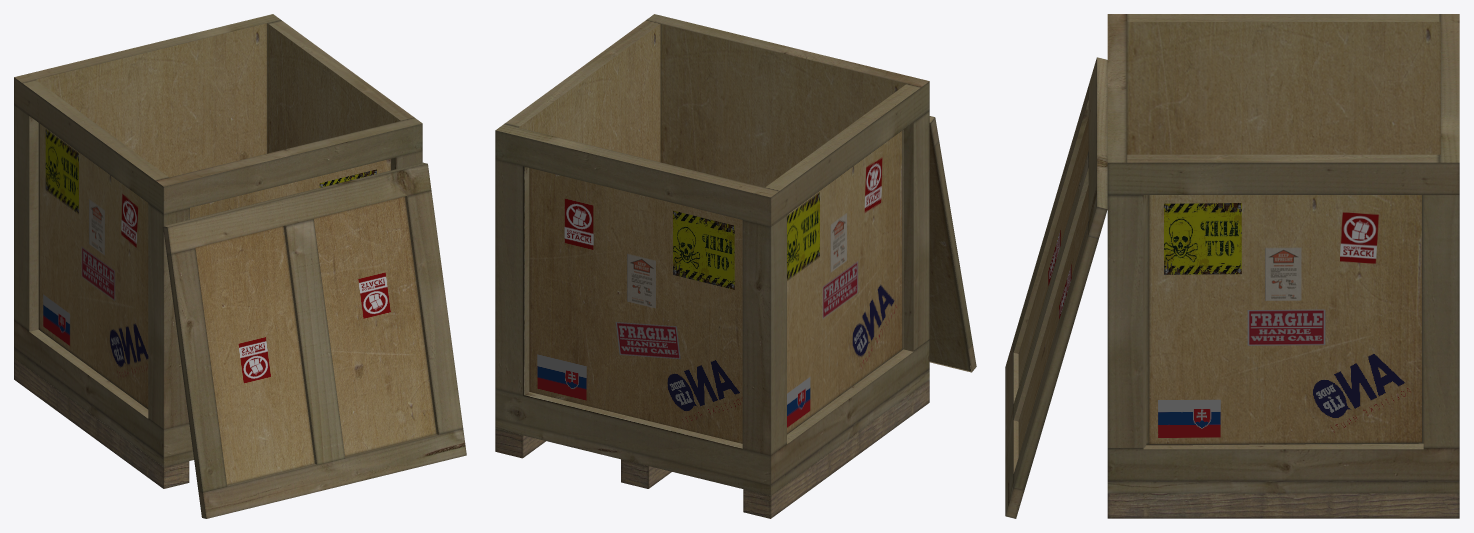
Rendered from crate.glb.
3 renders of one model, left to right at view 1: azimuth 30°, elevation 25°; view 2: azimuth 150°, elevation 25°; view 3: azimuth 270°, elevation 25°, orthographic. The views are drawn at different scales.
Parts seen in each view (by area): view 1: woodcrate01_skid_open, woodcrate01_cover; view 2: woodcrate01_skid_open, woodcrate01_cover; view 3: woodcrate01_skid_open, woodcrate01_cover.
Boxes of the visible parts, x1,y1,x2,y2 form: woodcrate01_skid_open: (14, 14, 422, 488); woodcrate01_cover: (163, 162, 466, 518); woodcrate01_skid_open: (495, 14, 929, 518); woodcrate01_cover: (929, 116, 976, 372); woodcrate01_skid_open: (1107, 14, 1459, 518); woodcrate01_cover: (1005, 57, 1107, 518).
Size of the model in its own units: 1.98 by 2.2 by 2.54.
Materials: 2 (2 with a texture image).
